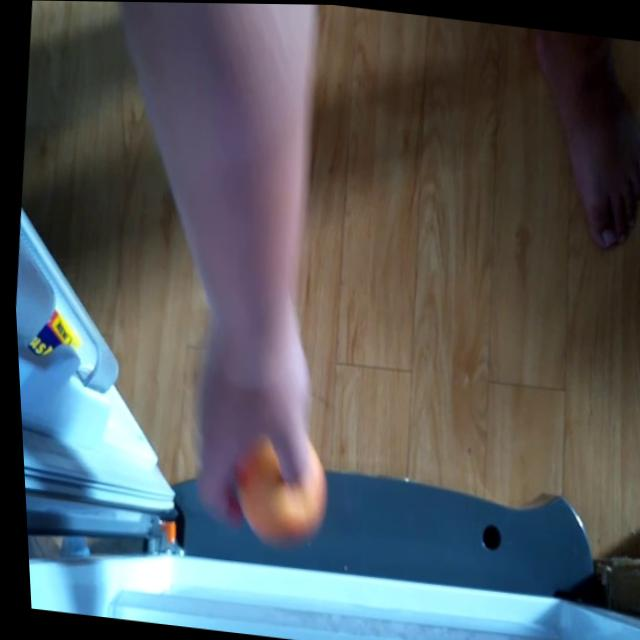apple: (225, 428, 332, 547)
